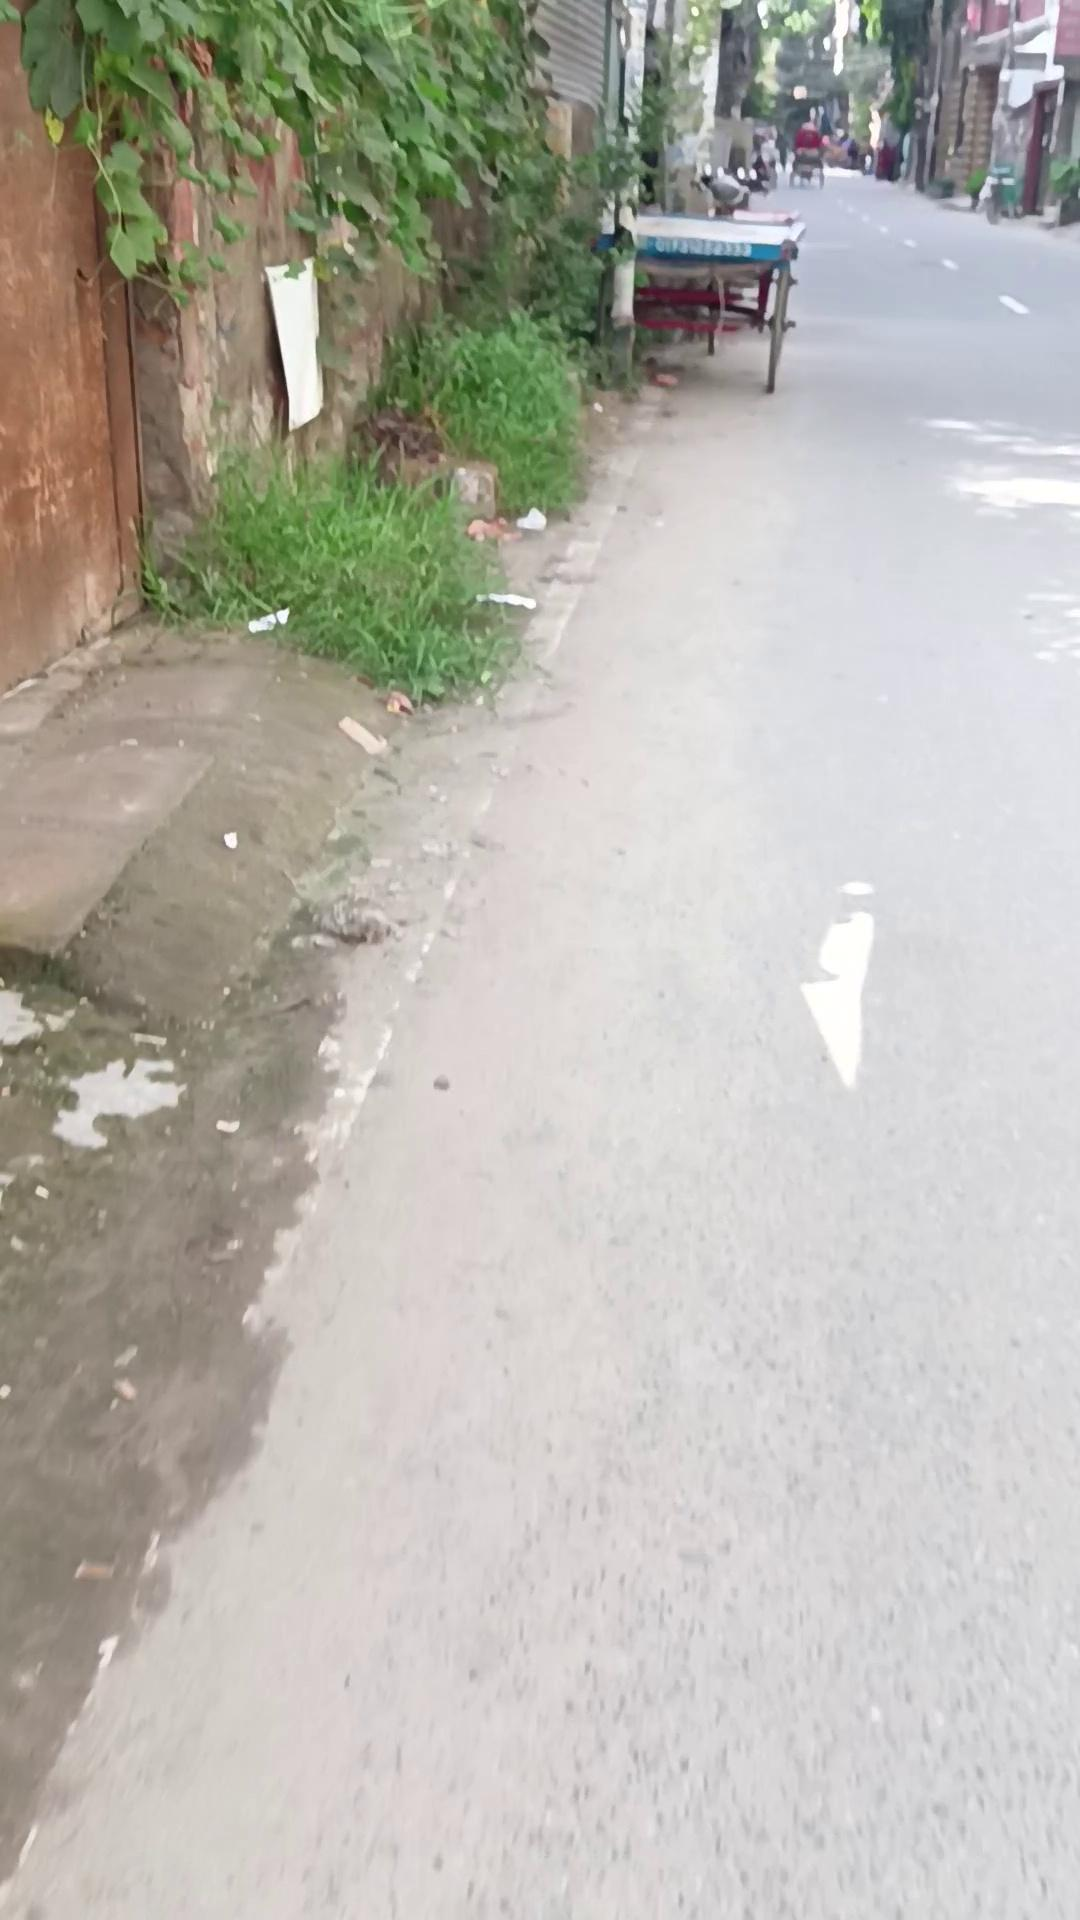Broken-road: (4, 425, 433, 1379)
Fallen-tree: (1043, 152, 1079, 225)
Garbage: (0, 613, 1080, 1920)
Light-pole: (3, 0, 564, 316)
Obstacle: (0, 9, 148, 695)
